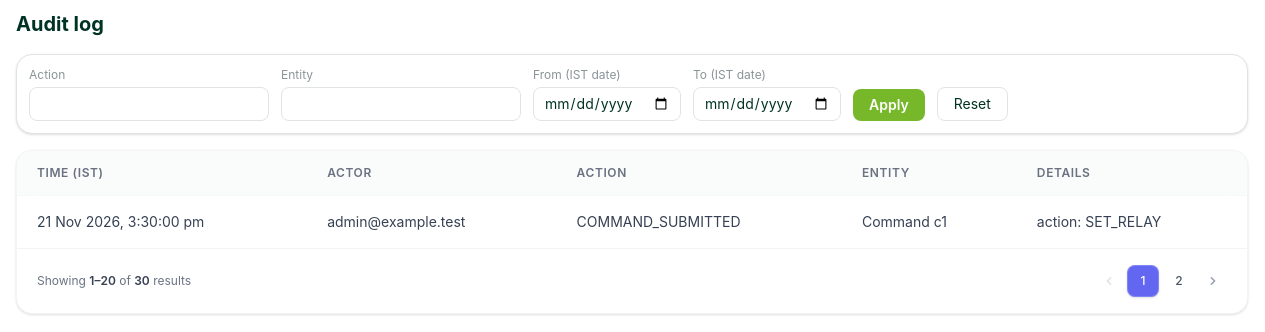
Test: AuditPage › paginates
The image size is (1265, 332).
Expected: the text "COMMAND_SUBMITTED" is shown, x1=557 y1=196 x2=842 y2=248
Click the button named "Next page" at (1213, 281), box x1=1199 y1=267 x2=1227 y2=295
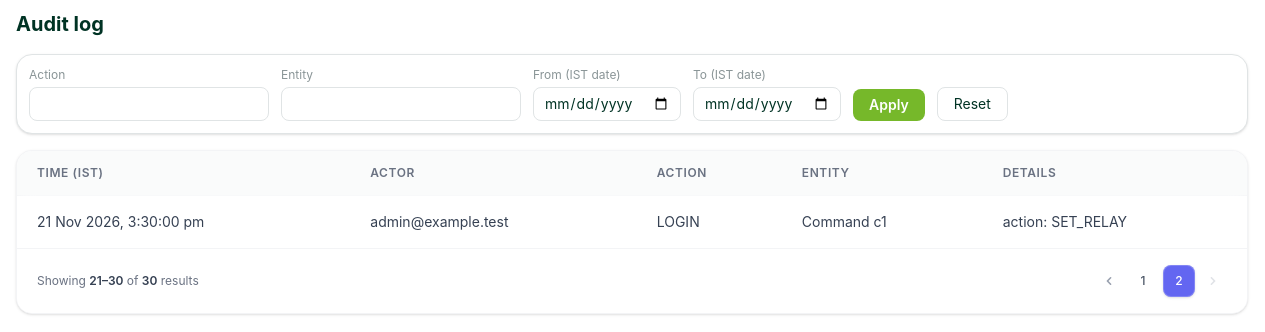
Expected: the text "LOGIN" is shown, x1=637 y1=196 x2=782 y2=248
